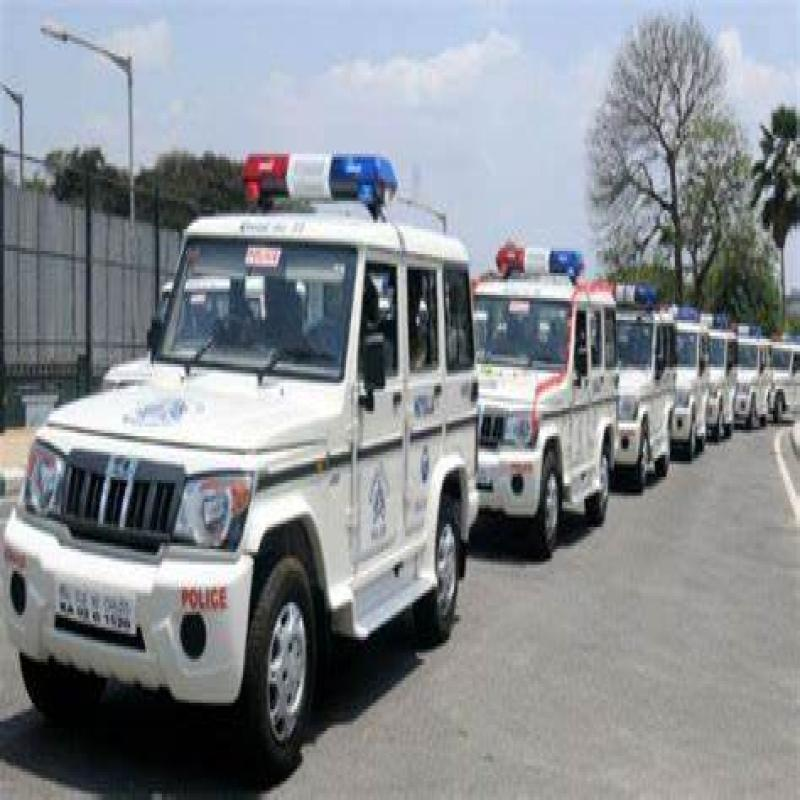AmbulanceSiren: (227, 116, 403, 264), (484, 231, 599, 290)
